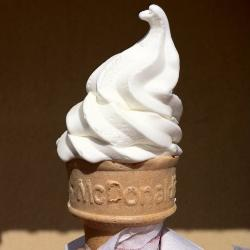icecream: (55, 9, 201, 172)
